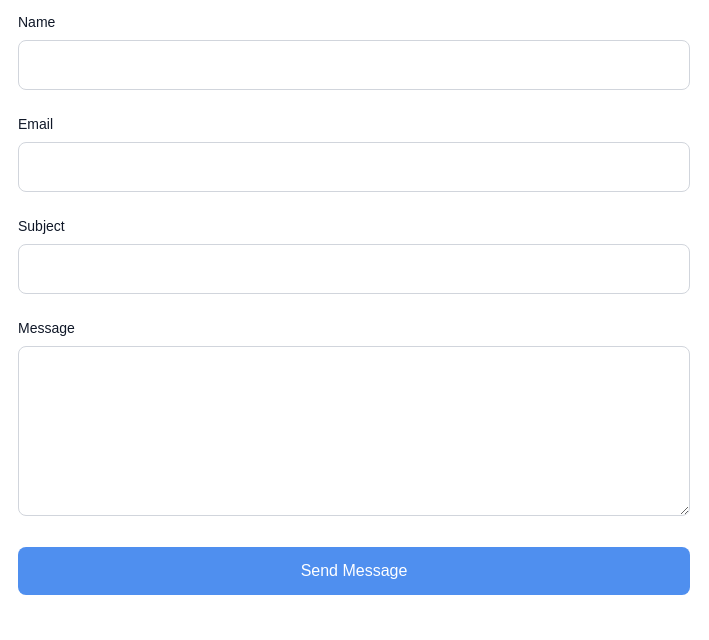
Test case: ContactForm Unit Tests › Form Validation › should display validation error for empty name field
Click the field labelled "Name". click: (354, 65)
box: [18,40,690,90]
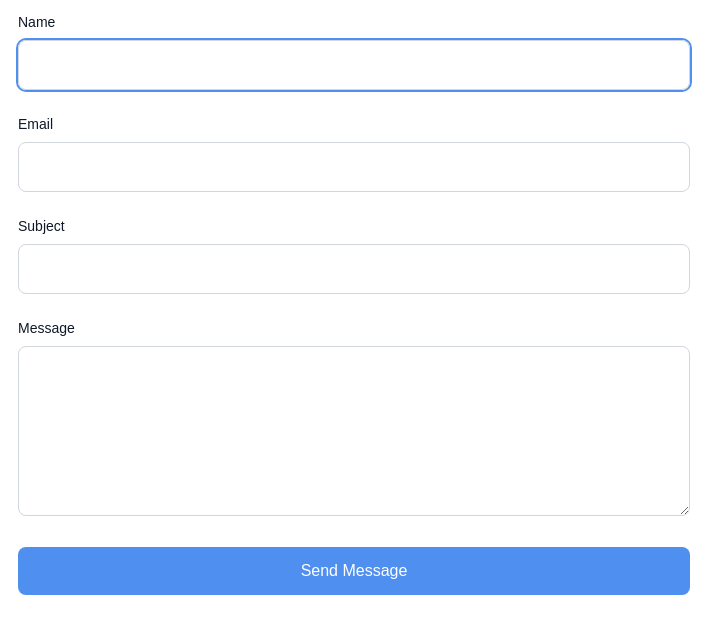
Press Tab
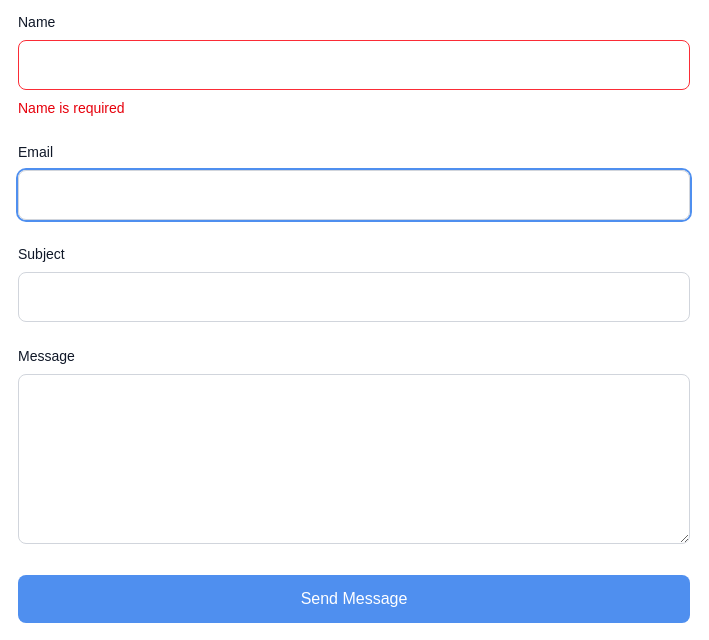
Check: the text "Name is required" is shown, box [18,100,125,116]
